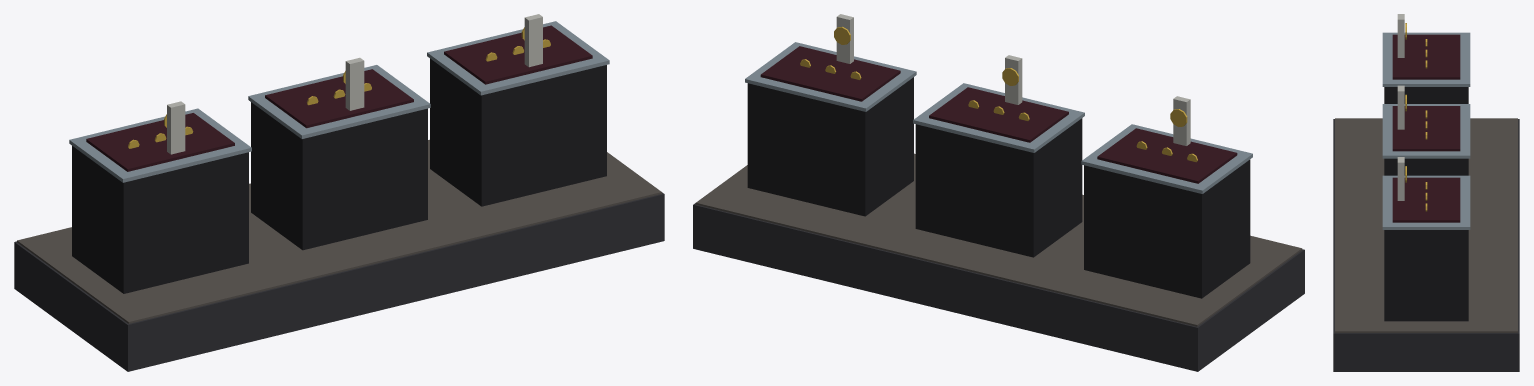
The model's file is display_jewelry.glb.
3 views of the same model, side by side, from view 1: azimuth 30°, elevation 25°; view 2: azimuth 150°, elevation 25°; view 3: azimuth 270°, elevation 25° (orthographic). The views are drawn at different scales.
Visible parts, largest first — view 1: display_jewelry; view 2: display_jewelry; view 3: display_jewelry.
Part boxes in pixels (left/top/right/bottom): display_jewelry: left=14, top=14, right=664, bottom=371; display_jewelry: left=693, top=14, right=1304, bottom=371; display_jewelry: left=1333, top=14, right=1519, bottom=371.
Bounding box in the file's own units: 3 × 1.15 × 1.1.
